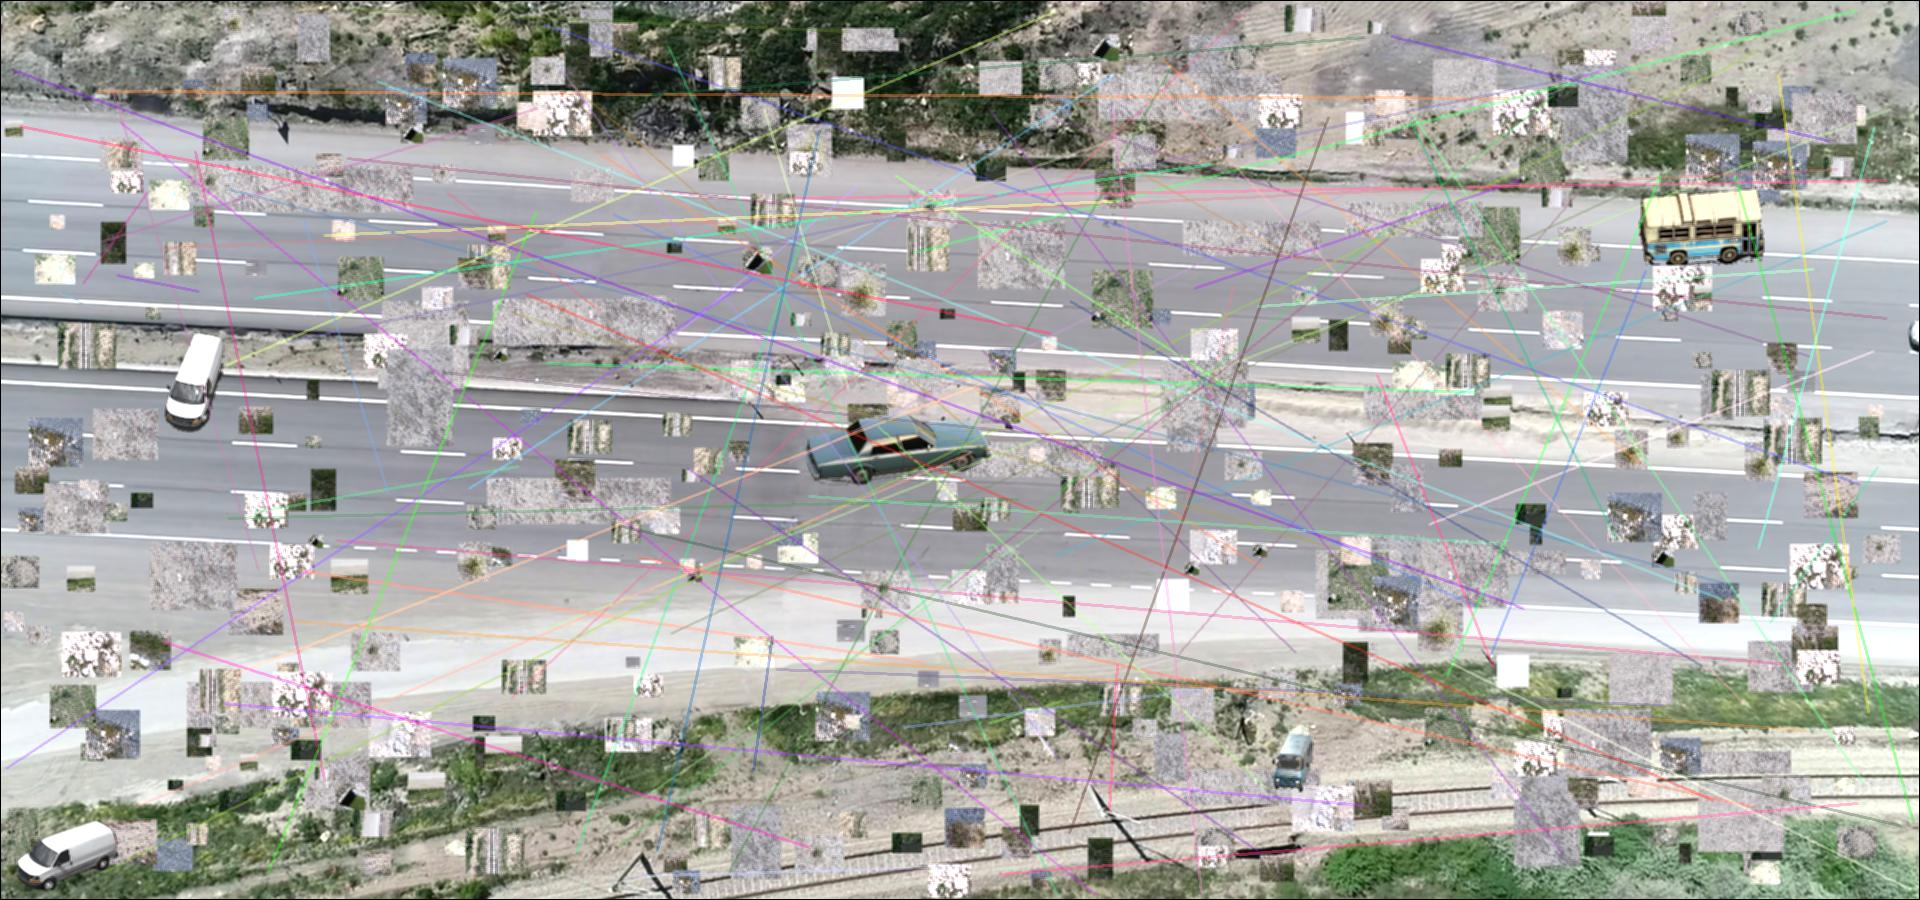arac: (800, 411, 997, 486), (1636, 186, 1764, 264), (17, 820, 118, 890), (165, 331, 225, 432), (1271, 732, 1314, 792)
